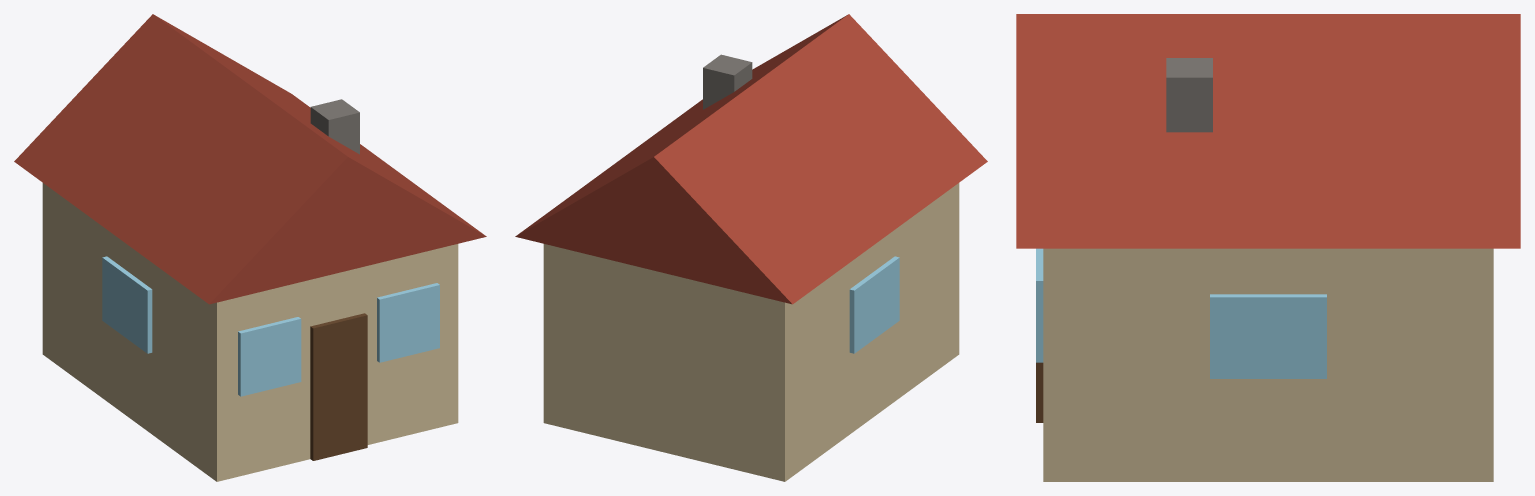
File: farm_house.obj
3 renders of one model, left to right at view 1: azimuth 30°, elevation 25°; view 2: azimuth 150°, elevation 25°; view 3: azimuth 270°, elevation 25°, orthographic. The views are drawn at different scales.
Visible parts, largest first — view 1: roof, walls, windows, door, chimney; view 2: walls, roof, windows, chimney; view 3: roof, walls, windows, chimney.
Boxes of the visible parts, x1,y1,x2,y2 form: roof: (14,14,486,304); walls: (42,183,458,481); windows: (102,256,439,396); door: (310,313,367,460); chimney: (310,99,359,154); walls: (543,183,959,481); roof: (515,14,987,304); windows: (849,256,899,353); chimney: (703,54,752,109); roof: (1016,14,1520,248); walls: (1043,248,1493,481); windows: (1036,248,1326,378); chimney: (1166,58,1212,132).
Size of the model in its own units: 4.6 by 4.8 by 5.6.
